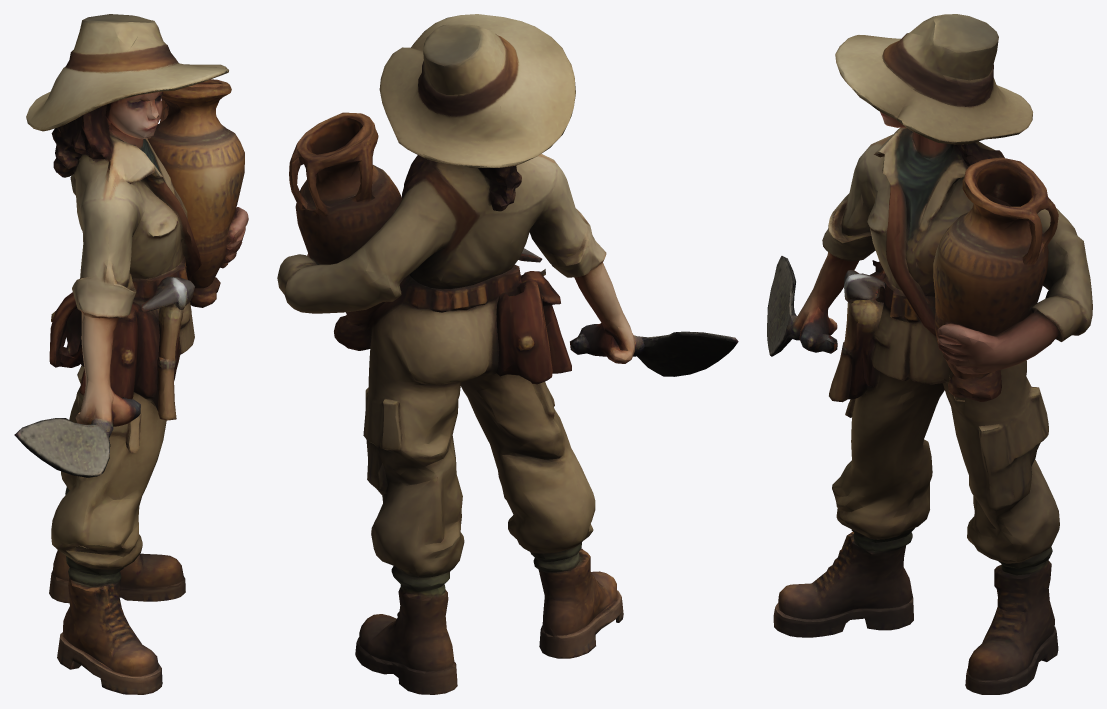
The model's file is unit_archaeologist.glb.
3 renders of one model, left to right at view 1: azimuth 30°, elevation 25°; view 2: azimuth 150°, elevation 25°; view 3: azimuth 270°, elevation 25°, orthographic. The views are drawn at different scales.
Parts seen in each view (by area): view 1: geometry_0; view 2: geometry_0; view 3: geometry_0.
Boxes of the visible parts, x1=… form: geometry_0: x1=14, y1=14, x2=248, y2=694; geometry_0: x1=277, y1=14, x2=738, y2=694; geometry_0: x1=767, y1=14, x2=1092, y2=694.
Bounding box in the file's own units: 0.1681 × 0.3 × 0.1402.
Materials: 1 (1 with a texture image).
